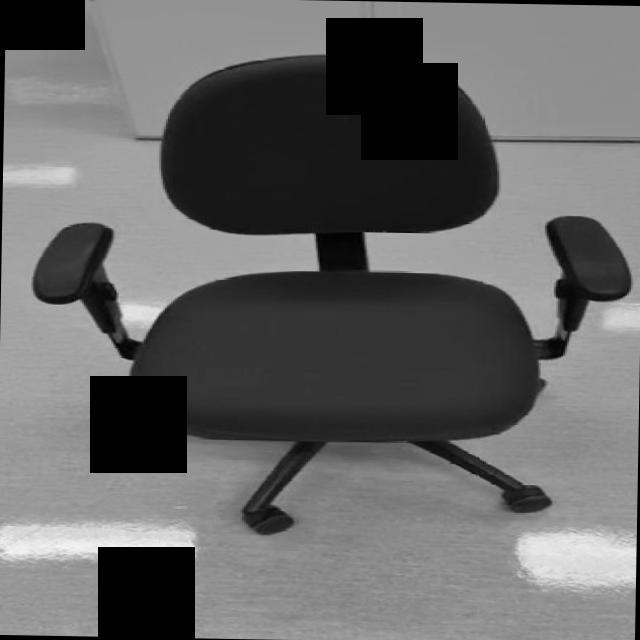chair: (27, 49, 636, 540)
